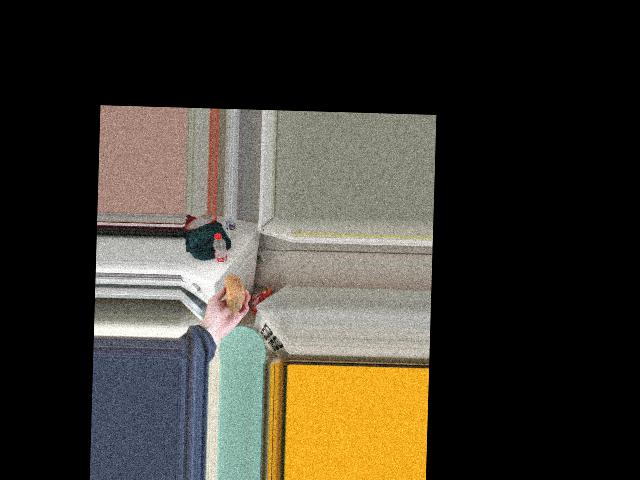sweet_potato: (221, 271, 242, 318)
